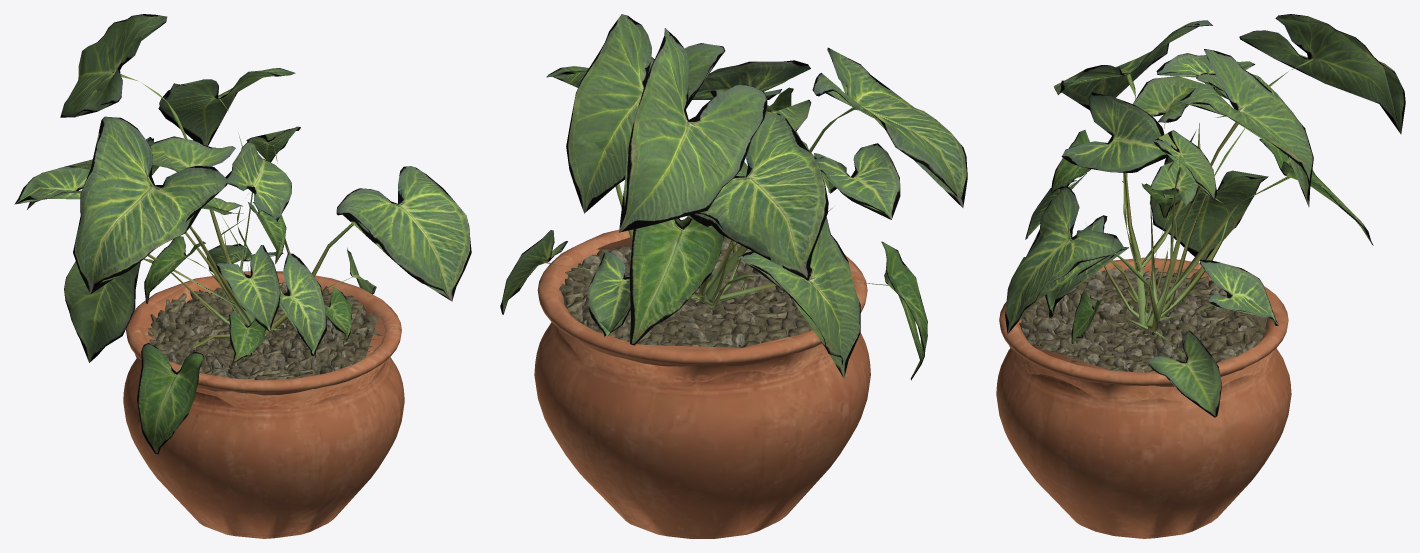
Rendered from potted_plant_02.glb.
3 views of the same model, side by side, from view 1: azimuth 30°, elevation 25°; view 2: azimuth 150°, elevation 25°; view 3: azimuth 270°, elevation 25° (orthographic). The views are drawn at different scales.
Visible parts, largest first — view 1: potted_plant_02_leaves, potted_plant_02_pot, potted_plant_02_leaves_lo, potted_plant_02_pot_lo; view 2: potted_plant_02_pot, potted_plant_02_leaves, potted_plant_02_leaves_lo, potted_plant_02_pot_lo; view 3: potted_plant_02_pot, potted_plant_02_leaves, potted_plant_02_leaves_lo, potted_plant_02_pot_lo.
Part boxes in pixels (x1,y1,x2,y2): potted_plant_02_leaves: (15, 14, 471, 454); potted_plant_02_pot: (123, 271, 404, 538); potted_plant_02_leaves_lo: (15, 17, 455, 453); potted_plant_02_pot_lo: (135, 279, 385, 413); potted_plant_02_pot: (534, 220, 870, 538); potted_plant_02_leaves: (500, 14, 967, 380); potted_plant_02_leaves_lo: (501, 14, 962, 379); potted_plant_02_pot_lo: (556, 237, 829, 389); potted_plant_02_pot: (996, 257, 1291, 538); potted_plant_02_leaves: (1005, 14, 1405, 416); potted_plant_02_leaves_lo: (1007, 18, 1400, 417); potted_plant_02_pot_lo: (1009, 268, 1282, 526).
Size of the model in its own units: 0.7009 by 0.8401 by 0.6574.
Materials: 2 (2 with a texture image).
